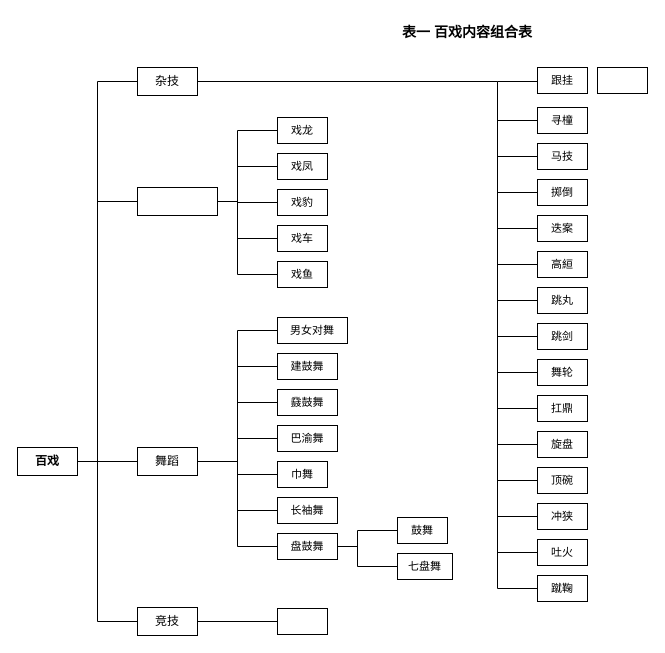
Some shapes in this 665 by 653 pixel diagram are drawn without their labels. The shapes that lost their labels are listed below. From the top down, each one's centre as x and y in pixels, then its label:
At pixel 622 80: "腹旋".
At pixel 177 201: "假形扮饰".
At pixel 302 621: "角觝".
